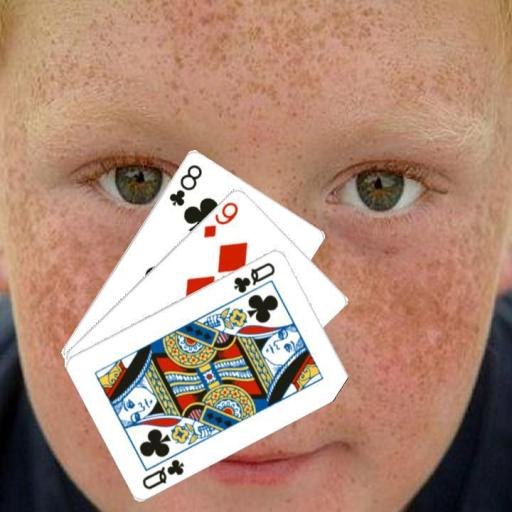8C: (166, 161, 204, 208)
9D: (200, 198, 240, 239)
QC: (139, 455, 186, 491), (231, 259, 277, 294)
